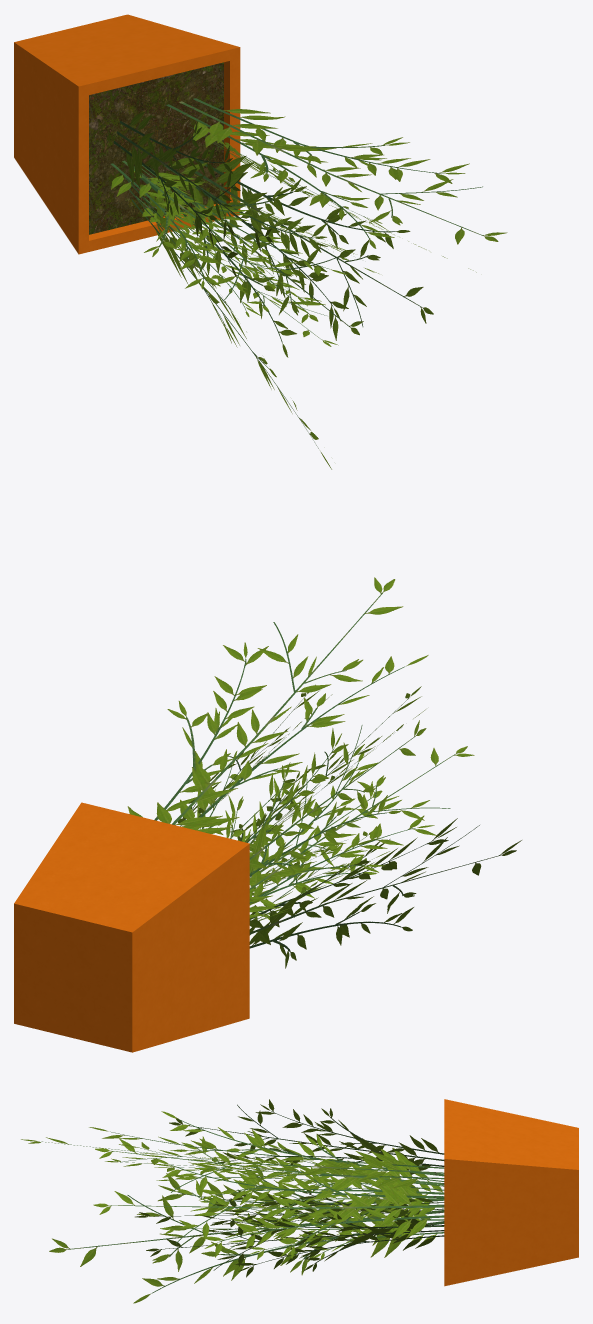
3 renders of one model, top to bottom at view 1: azimuth 30°, elevation 25°; view 2: azimuth 150°, elevation 25°; view 3: azimuth 270°, elevation 25°, orthographic. The views are drawn at different scales.
Visible parts, largest first — view 1: Pot_6_Low_PolyPlant_0; view 2: Pot_6_Low_PolyPlant_0; view 3: Pot_6_Low_PolyPlant_0.
Part boxes in pixels (left/top/right/bottom): Pot_6_Low_PolyPlant_0: left=14, top=14, right=507, bottom=469; Pot_6_Low_PolyPlant_0: left=14, top=577, right=521, bottom=1052; Pot_6_Low_PolyPlant_0: left=21, top=1099, right=578, bottom=1303.
Bounding box in the file's own units: 0.9064 × 0.8938 × 2.07.
Materials: 1 (1 with a texture image).
